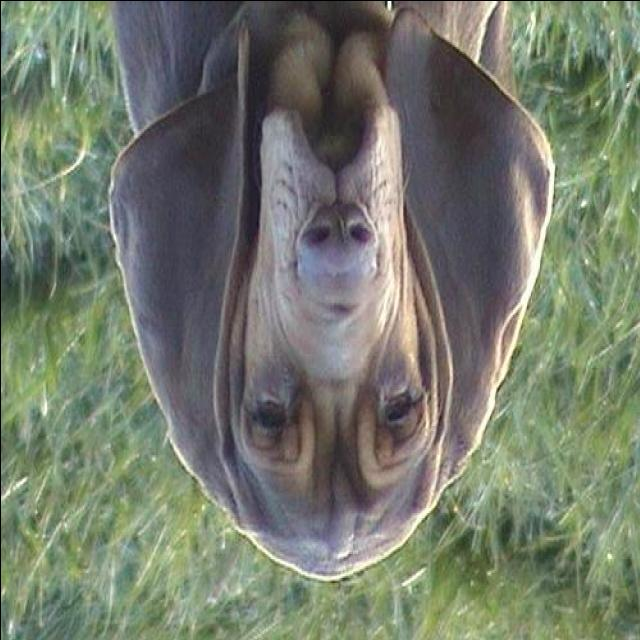bloodhound: (104, 4, 560, 588)
